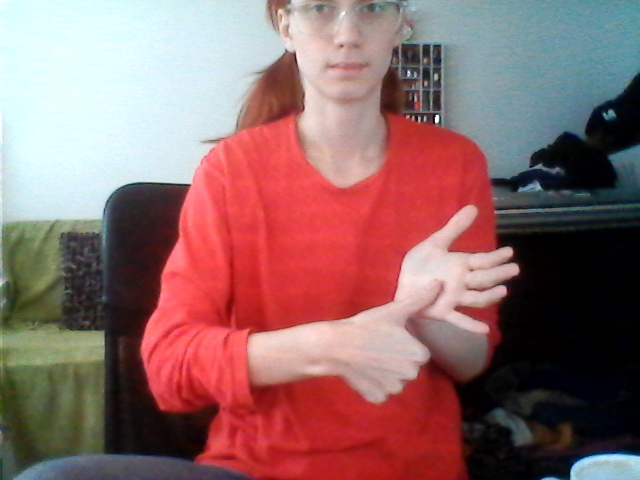pivo: (349, 196, 524, 409)
